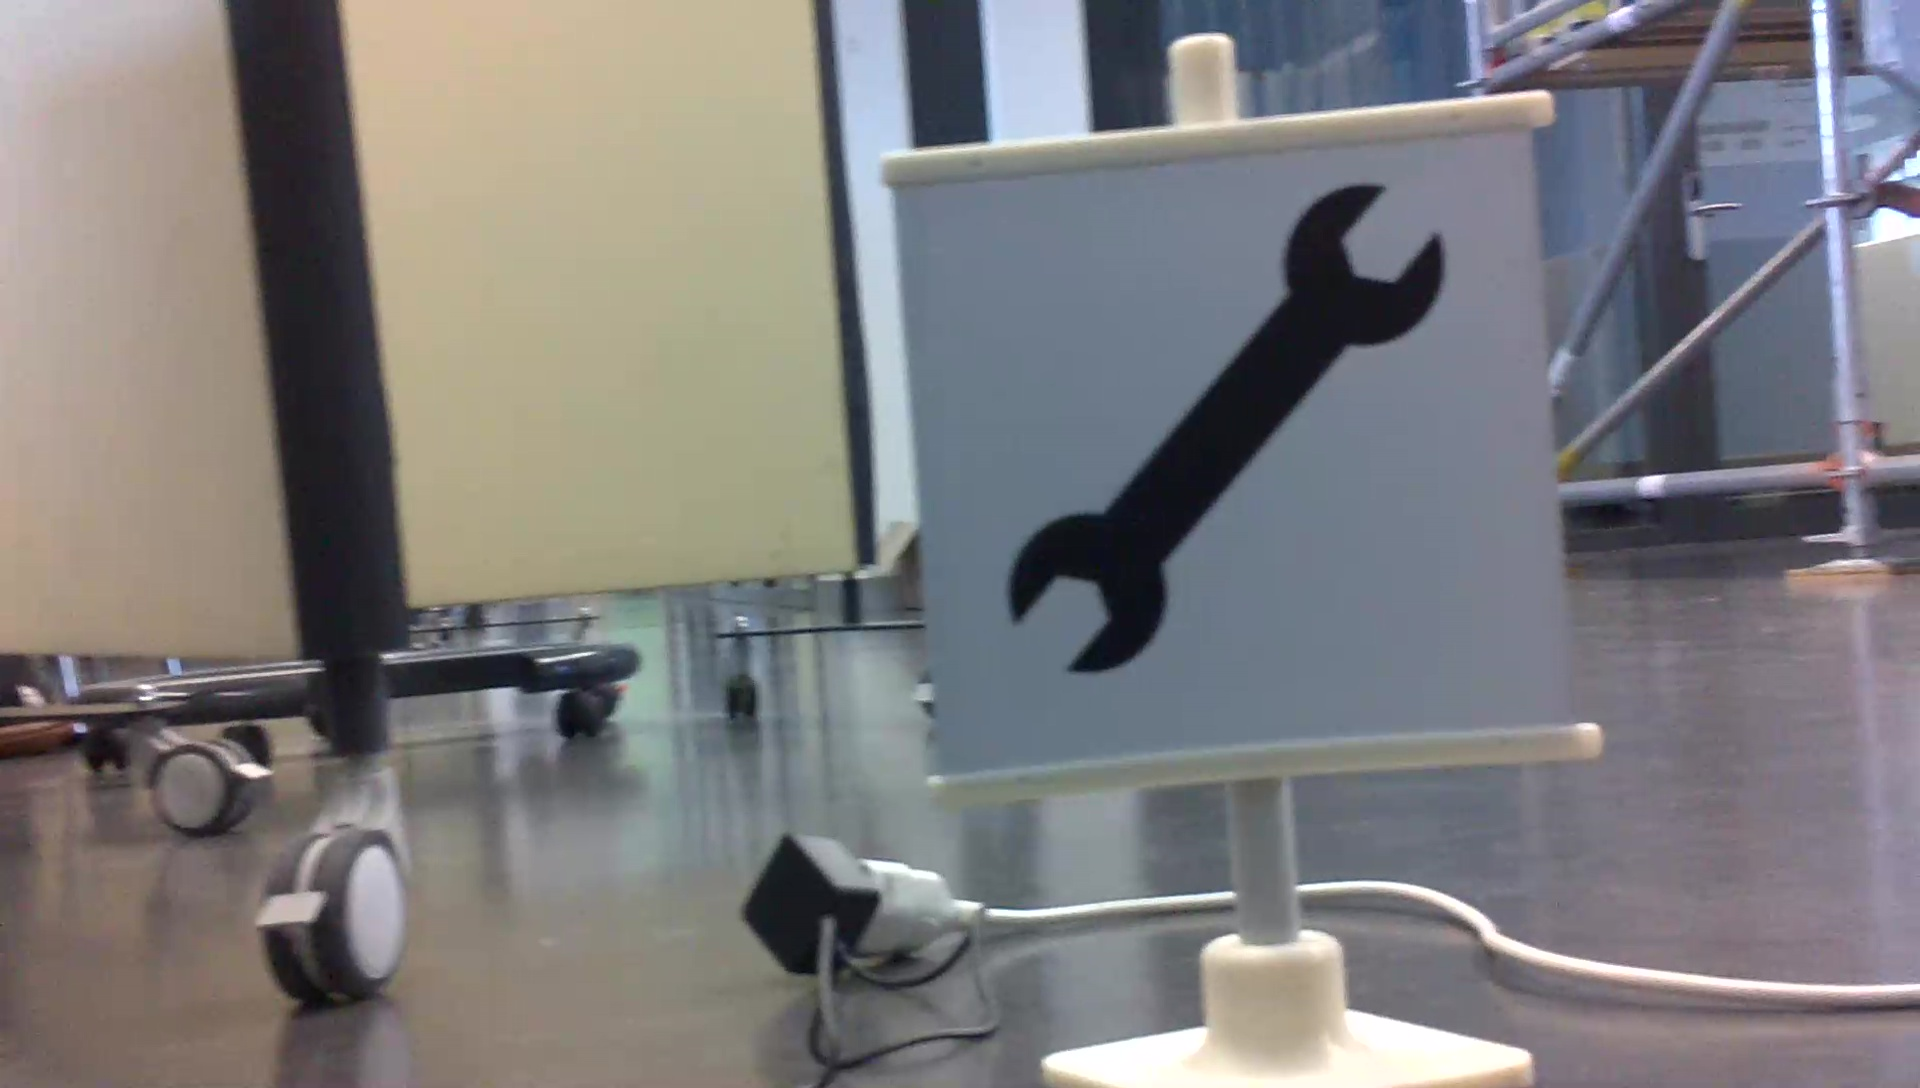wrench: (1000, 173, 1462, 686)
